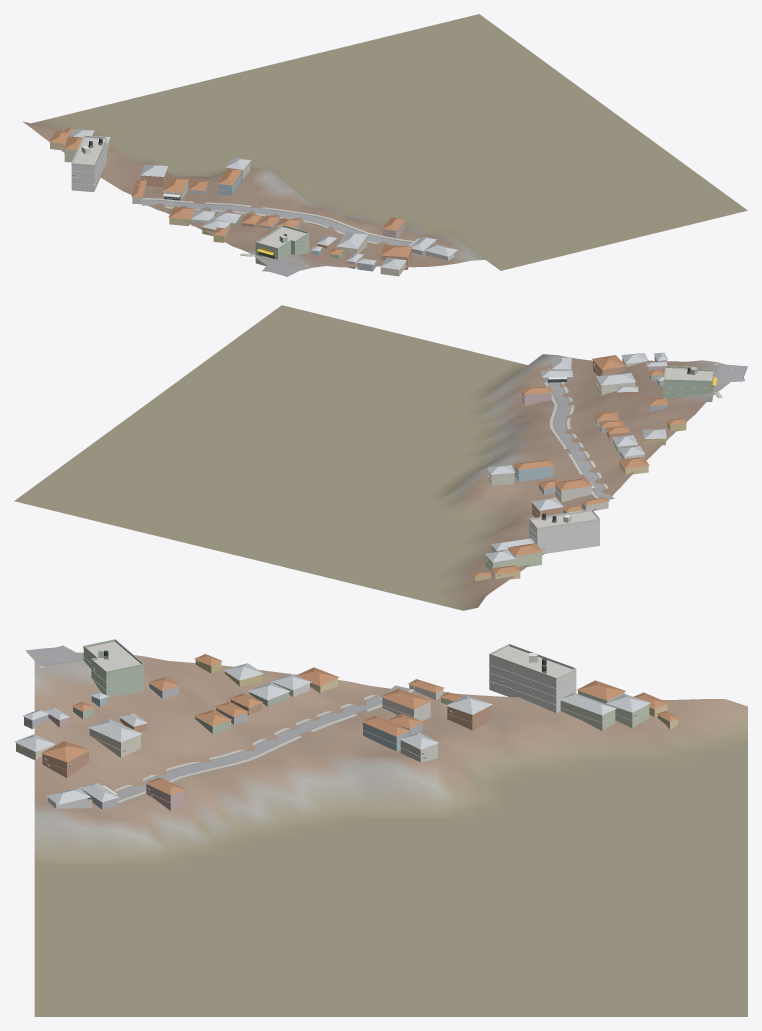
3 renders of one model, top to bottom at view 1: azimuth 30°, elevation 25°; view 2: azimuth 150°, elevation 25°; view 3: azimuth 270°, elevation 25°, orthographic. The views are drawn at different scales.
Visible parts, largest first — view 1: Terrain-col, Buildings-col, Roads-col, Details, Sidewalks-col; view 2: Terrain-col, Buildings-col, Roads-col, Details, Sidewalks-col; view 3: Terrain-col, Buildings-col, Roads-col, Details, Sidewalks-col.
Part boxes in pixels (bbox=[...]): Terrain-col: bbox=[23, 14, 747, 270]; Buildings-col: bbox=[49, 127, 457, 276]; Roads-col: bbox=[141, 199, 412, 276]; Details: bbox=[64, 135, 424, 269]; Sidewalks-col: bbox=[142, 198, 413, 266]; Terrain-col: bbox=[14, 305, 729, 610]; Buildings-col: bbox=[473, 352, 713, 581]; Roads-col: bbox=[548, 364, 747, 499]; Details: bbox=[485, 363, 717, 576]; Sidewalks-col: bbox=[544, 363, 722, 498]; Terrain-col: bbox=[34, 652, 747, 1016]; Buildings-col: bbox=[14, 641, 679, 810]; Roads-col: bbox=[26, 645, 410, 800]; Details: bbox=[19, 639, 649, 803]; Sidewalks-col: bbox=[39, 665, 414, 803].
Size of the model in its own units: 274 by 33.08 by 263.
